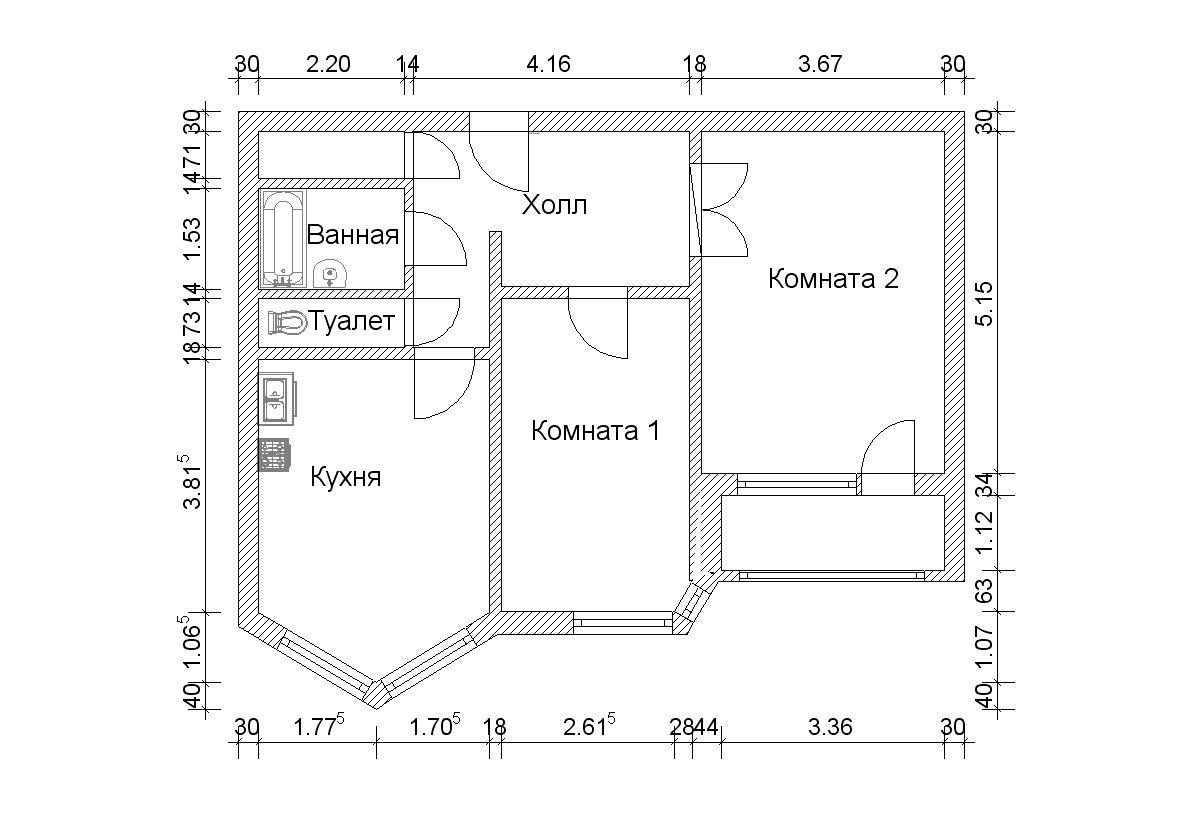balcony: (722, 494, 944, 570)
bathroom: (259, 189, 407, 291)
bedroom: (702, 131, 947, 472), (502, 298, 690, 611)
hallway: (412, 132, 689, 348)
kitchen: (258, 359, 490, 681)
toilet: (258, 299, 416, 348)
walk_in_closet: (258, 132, 406, 179)
